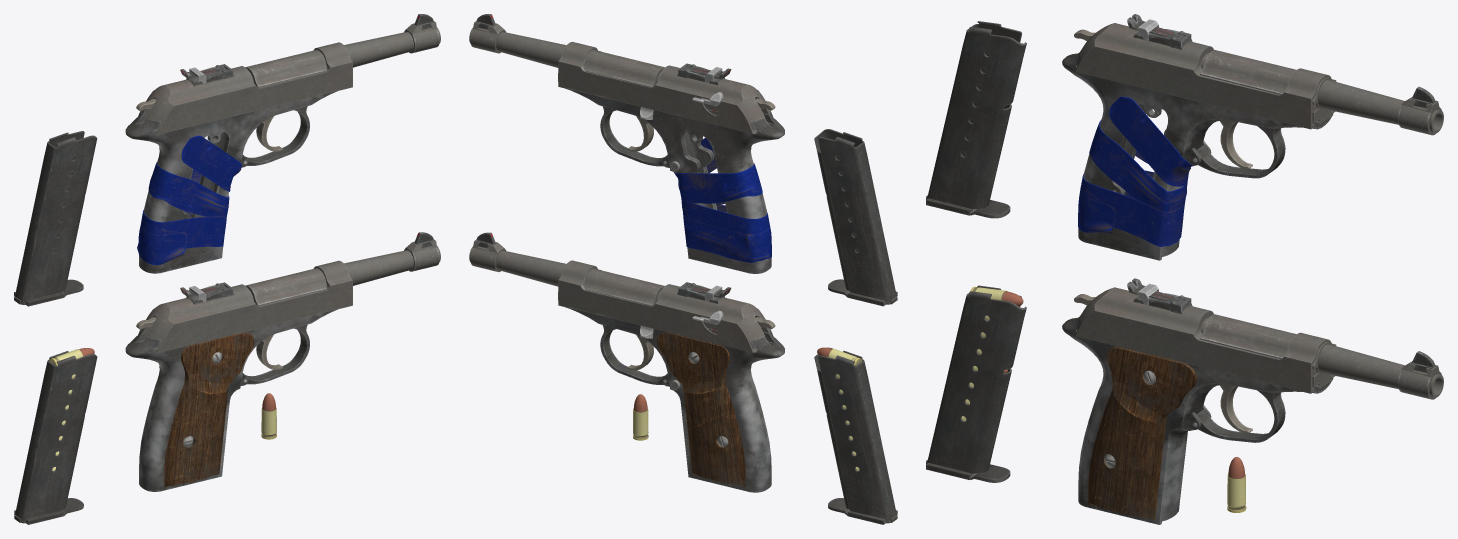
File: wpn_pistol.glb
3 views of the same model, side by side, from view 1: azimuth 30°, elevation 25°; view 2: azimuth 150°, elevation 25°; view 3: azimuth 330°, elevation 25° (orthographic). The views are drawn at different scales.
Visible parts, largest first — view 1: service_pistol_pistol_b, service_pistol_pistol_a, service_pistol_magazine_loaded, service_pistol_magazine_empty, service_pistol_slide_a, service_pistol_slide_b, service_pistol_bullet; view 2: service_pistol_pistol_b, service_pistol_pistol_a, service_pistol_magazine_loaded, service_pistol_magazine_empty, service_pistol_slide_a, service_pistol_slide_b, service_pistol_bullet; view 3: service_pistol_pistol_a, service_pistol_pistol_b, service_pistol_magazine_loaded, service_pistol_magazine_empty, service_pistol_slide_b, service_pistol_slide_a, service_pistol_bullet, service_pistol_trigger_b, service_pistol_trigger_a.
Boxes of the visible parts, x1,y1,x2,y2 form: service_pistol_pistol_b: [125, 14, 440, 273]; service_pistol_pistol_a: [125, 232, 440, 491]; service_pistol_magazine_loaded: [14, 348, 97, 524]; service_pistol_magazine_empty: [14, 131, 97, 306]; service_pistol_slide_a: [141, 260, 352, 352]; service_pistol_slide_b: [141, 42, 352, 134]; service_pistol_bullet: [261, 393, 276, 439]; service_pistol_pistol_b: [469, 14, 784, 273]; service_pistol_pistol_a: [469, 232, 784, 492]; service_pistol_magazine_loaded: [814, 347, 897, 524]; service_pistol_magazine_empty: [814, 129, 897, 306]; service_pistol_slide_a: [558, 260, 772, 352]; service_pistol_slide_b: [558, 41, 772, 133]; service_pistol_bullet: [633, 394, 648, 440]; service_pistol_pistol_a: [1062, 314, 1443, 524]; service_pistol_pistol_b: [1062, 50, 1443, 260]; service_pistol_magazine_loaded: [926, 285, 1026, 482]; service_pistol_magazine_empty: [926, 21, 1026, 218]; service_pistol_slide_b: [1075, 14, 1336, 129]; service_pistol_slide_a: [1075, 278, 1336, 393]; service_pistol_bullet: [1227, 457, 1246, 512]; service_pistol_trigger_b: [1220, 120, 1252, 169]; service_pistol_trigger_a: [1220, 384, 1252, 433].
Bounding box in the file's own units: 0.3016 × 0.2807 × 0.0318.
Materials: 1 (1 with a texture image).
